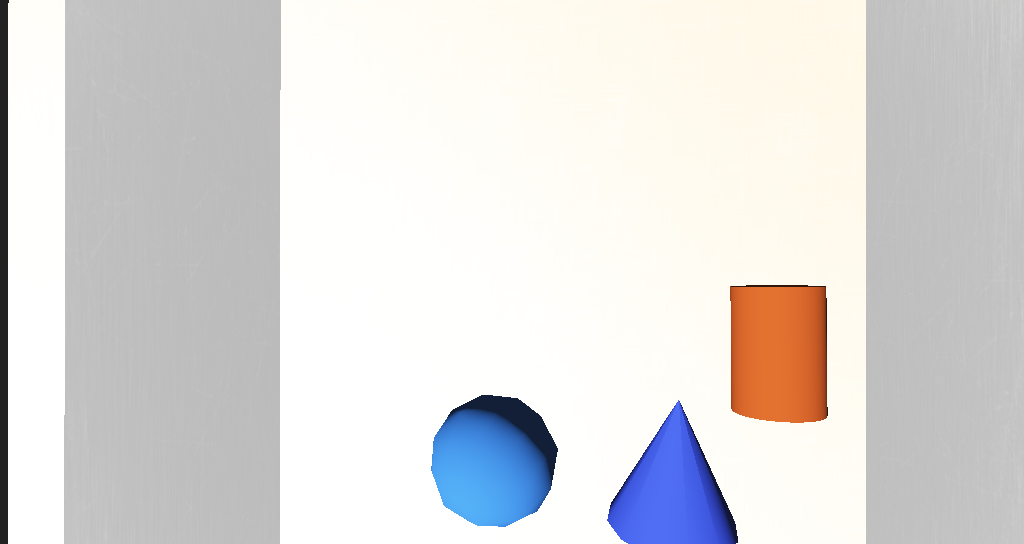cone: (579, 272, 633, 320)
cylinder: (519, 305, 586, 363)
sphere: (435, 313, 495, 356)
